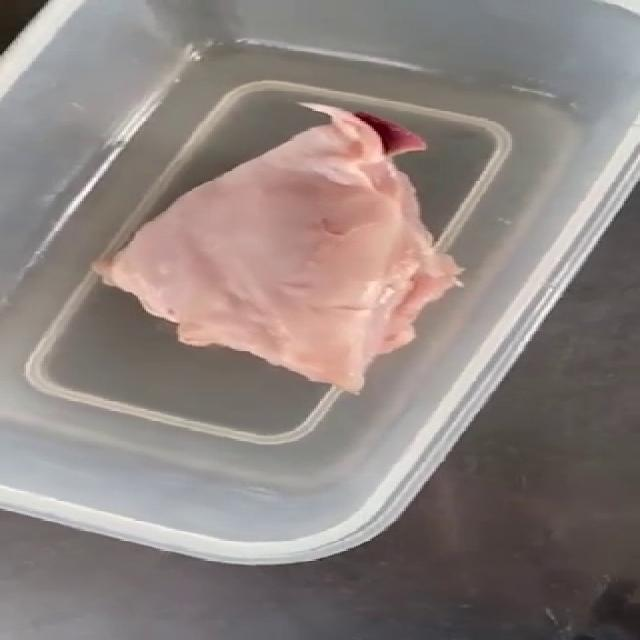chicken: (90, 100, 466, 396)
